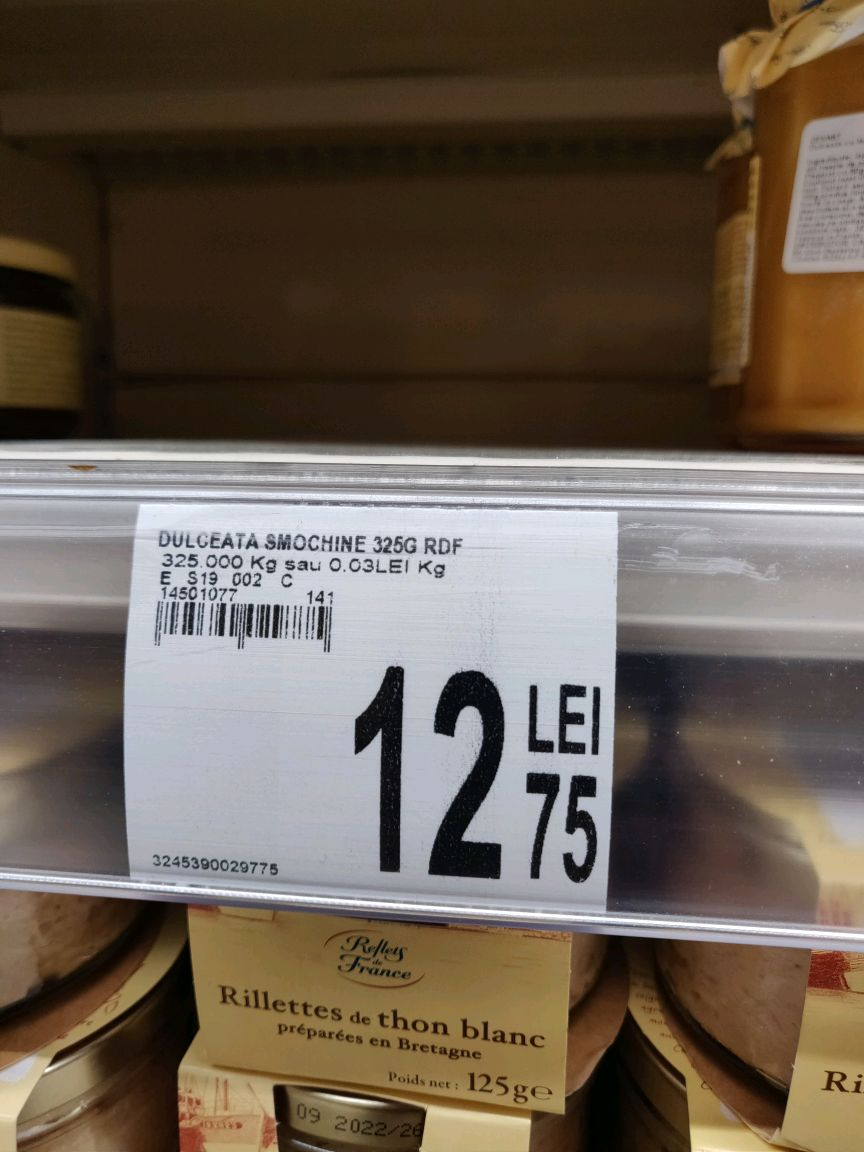price_bani: (520, 769, 612, 890)
price_lei: (337, 656, 515, 878)
price_tag: (95, 495, 635, 928)
product_id: (142, 850, 290, 880)
product_name: (151, 528, 485, 554)
